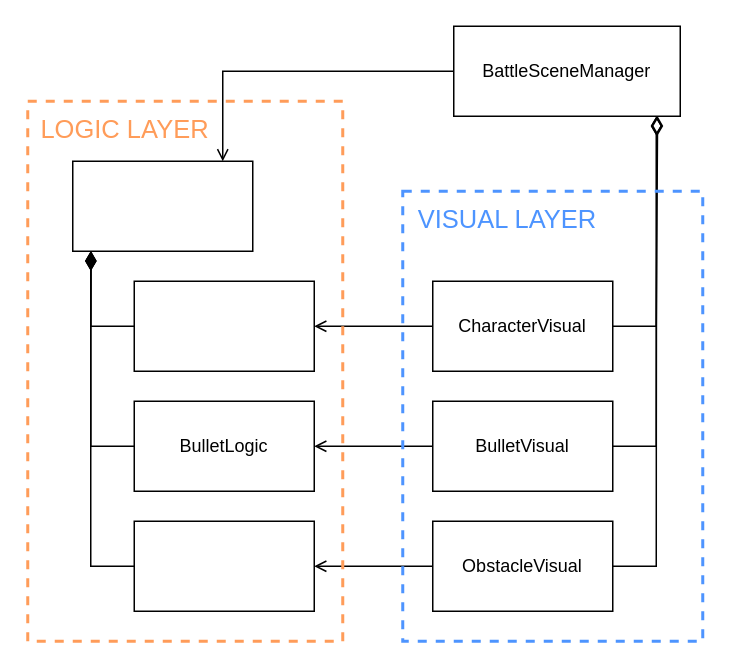
The diagram is 729 pixels wide and 669 high, and some of its shapes have lost their labels. Here are the shapes that lost their labels. From the top down, the centre of each, then its label:
At point (162, 205): "BattleLogic".
At point (223, 325): "CharacterLogic".
At point (223, 565): "ObstacleLogic".
